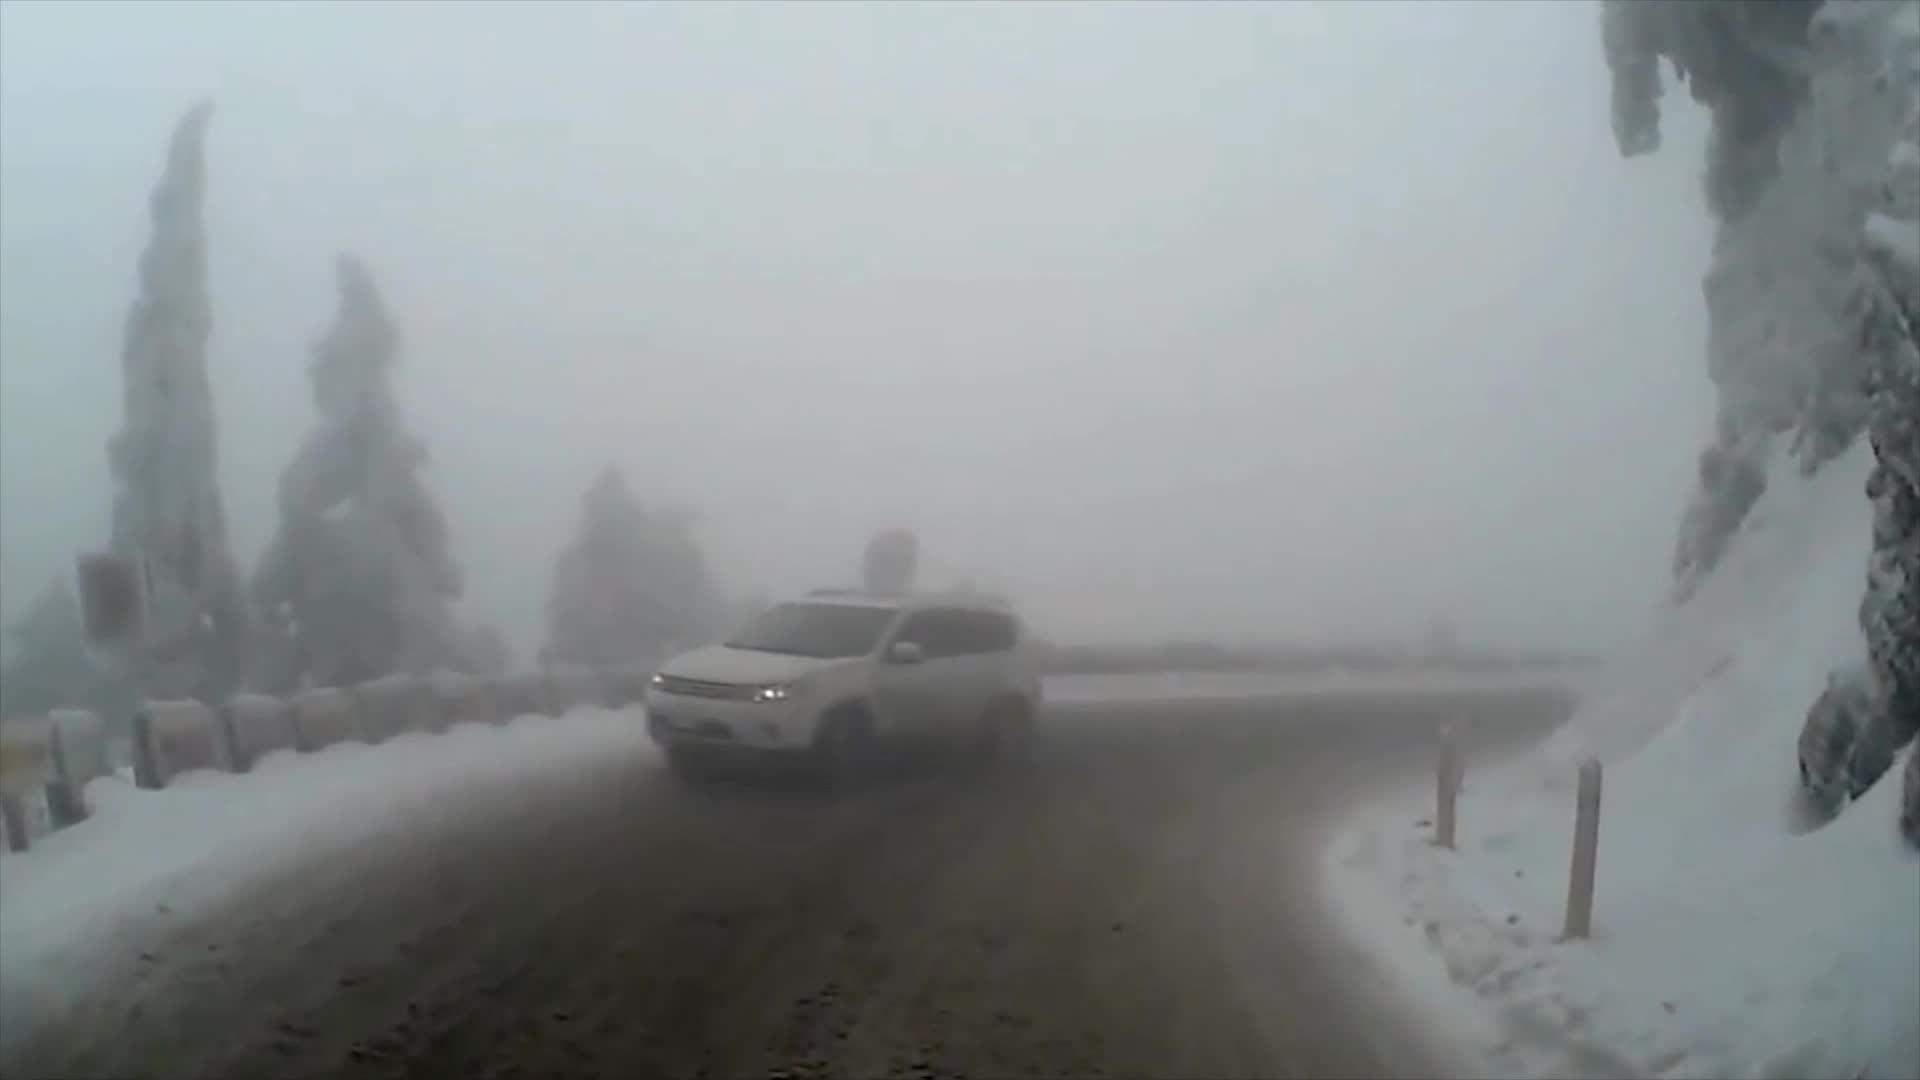vehicle: (641, 589, 1042, 808)
